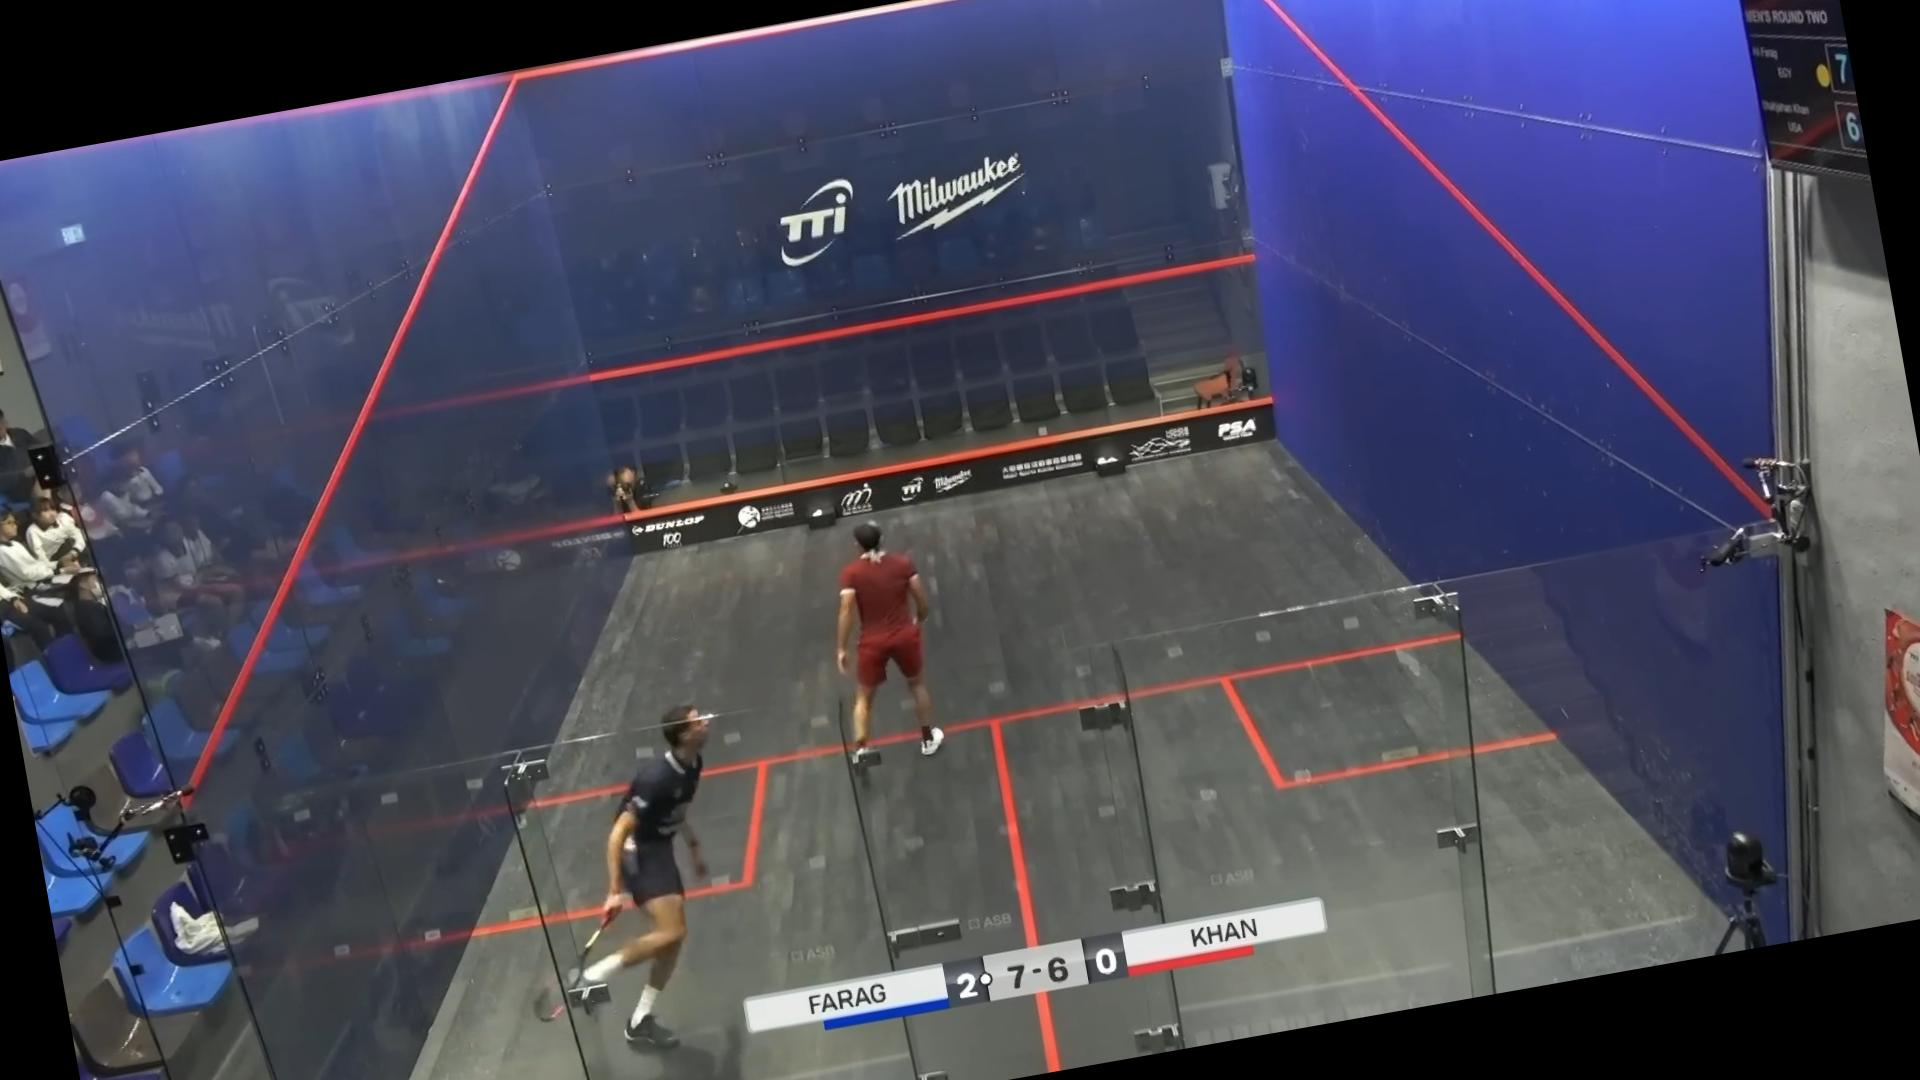Racket: (520, 919, 628, 1027)
